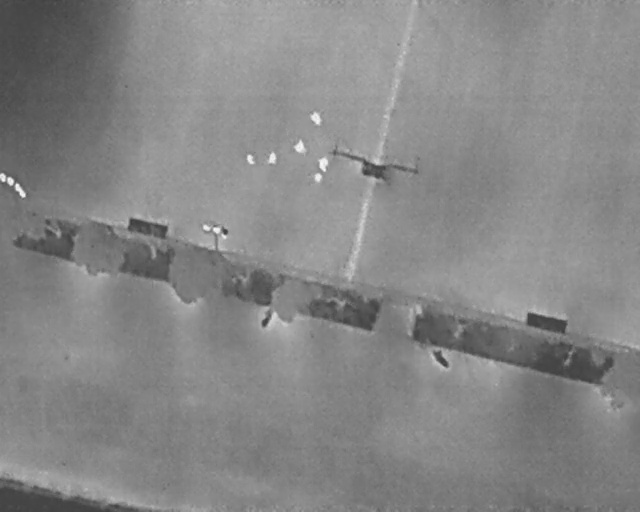Person: (294, 139, 307, 155), (310, 110, 322, 126), (317, 156, 328, 172), (268, 151, 277, 165), (247, 154, 256, 165), (314, 173, 322, 183)
